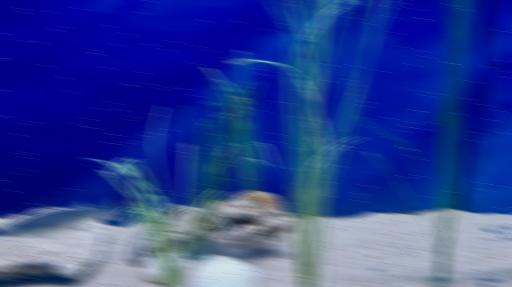Fish: (0, 197, 123, 237)
